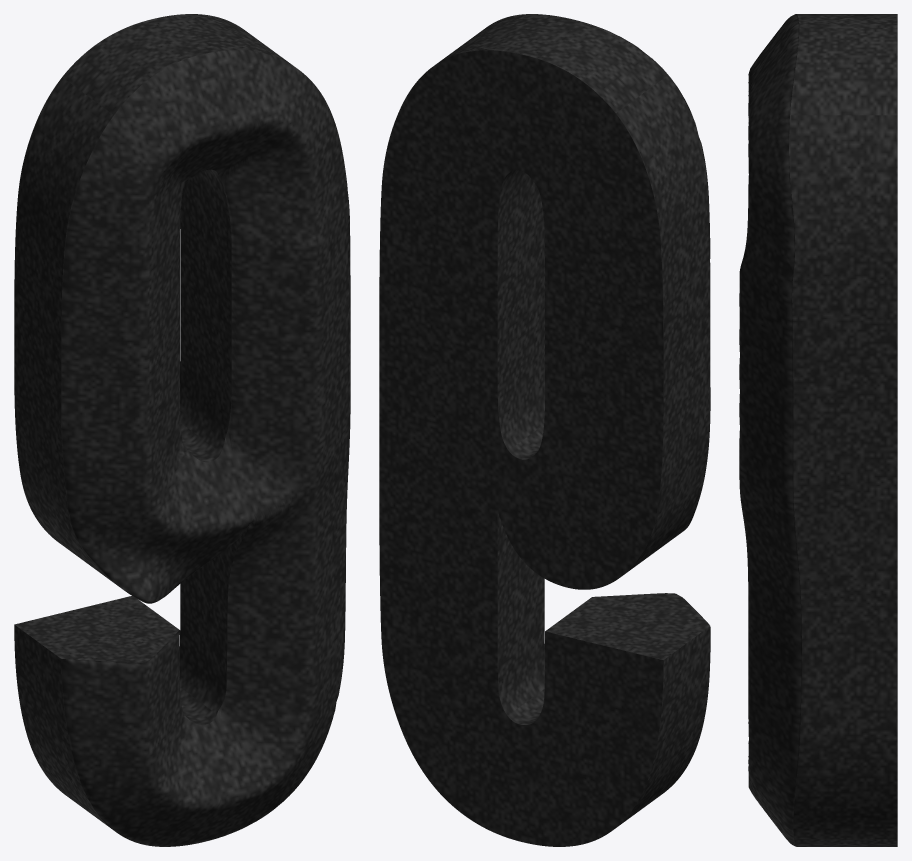
File: digit-9.glb
The picture shows the model from 3 angles, left to right: view 1: azimuth 30°, elevation 25°; view 2: azimuth 150°, elevation 25°; view 3: azimuth 270°, elevation 25°; orthographic projection.
Parts seen in each view (by area): view 1: Glyph 9; view 2: Glyph 9; view 3: Glyph 9.
Part boxes in pixels (x1,y1,x2,y2): Glyph 9: [14, 14, 350, 846]; Glyph 9: [379, 14, 710, 846]; Glyph 9: [739, 14, 897, 846].
Size of the model in its own units: 1.4 by 3.71 by 0.6661.
1 material, 1 textured.
